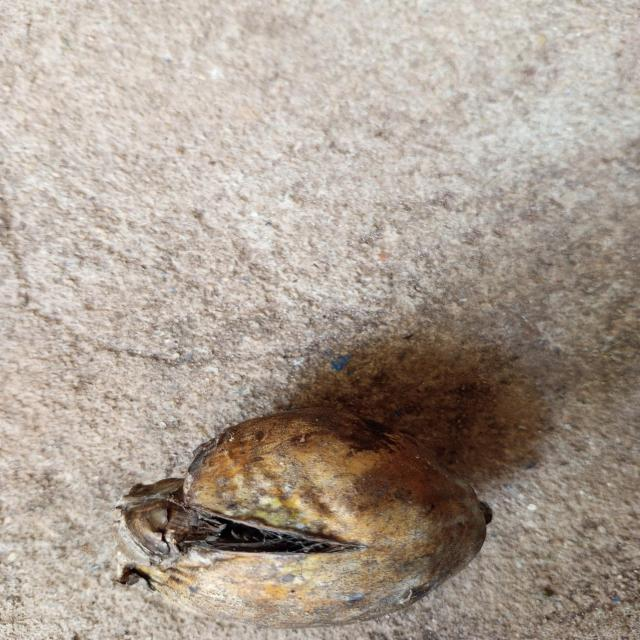damaged: (117, 408, 492, 626)
